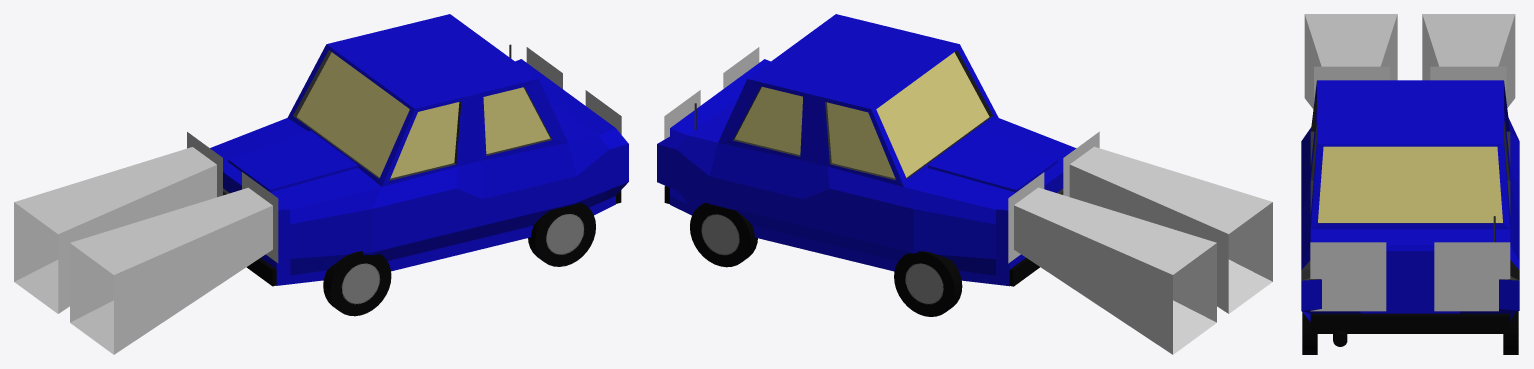
Rendered from Car_2.fbx.
3 renders of one model, left to right at view 1: azimuth 30°, elevation 25°; view 2: azimuth 150°, elevation 25°; view 3: azimuth 270°, elevation 25°, orthographic. The views are drawn at different scales.
Parts seen in each view (by area): view 1: Car, Headlight, Front Wheels, Rear Wheels; view 2: Car, Headlight, Front Wheels, Rear Wheels; view 3: Car, Headlight, Rear Wheels.
Boxes of the visible parts, bbox=[...] form: Car: bbox=[210, 14, 628, 286]; Headlight: bbox=[14, 47, 621, 354]; Front Wheels: bbox=[323, 251, 391, 316]; Rear Wheels: bbox=[528, 202, 595, 266]; Car: bbox=[657, 14, 1076, 286]; Headlight: bbox=[664, 47, 1272, 354]; Front Wheels: bbox=[894, 251, 962, 316]; Rear Wheels: bbox=[690, 202, 757, 267]; Car: bbox=[1301, 80, 1519, 346]; Headlight: bbox=[1304, 14, 1515, 311]; Rear Wheels: bbox=[1302, 311, 1518, 354].
Bounding box in the file's own units: 11.24 × 3.89 × 3.9.
Materials: 16 (2 with a texture image).
